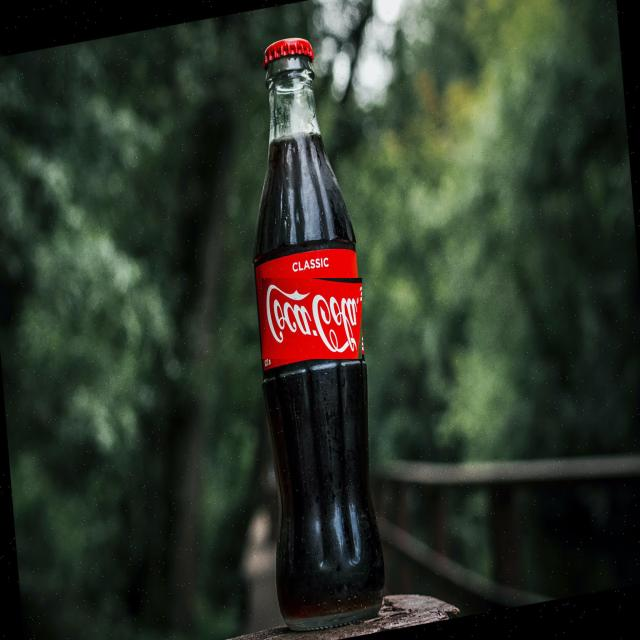coca-cola: (262, 278, 362, 359)
